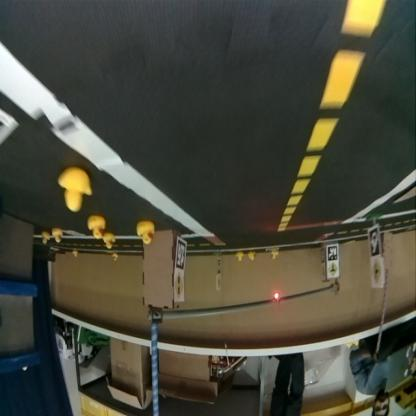Duckie: (58, 168, 90, 206), (136, 220, 155, 244), (89, 218, 104, 238), (104, 234, 114, 248), (52, 229, 62, 243), (40, 233, 50, 244), (112, 253, 118, 261), (236, 254, 242, 262), (248, 252, 254, 260), (271, 253, 276, 260)
Intersection sign: (372, 260, 381, 282), (328, 263, 338, 278)
QR code: (175, 240, 185, 270), (369, 229, 379, 254), (327, 247, 337, 261)
Signal sign: (175, 275, 183, 299)
Traffic light: (273, 292, 279, 300)
